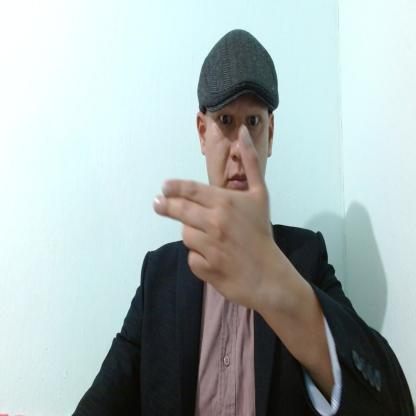H: (151, 124, 273, 303)
